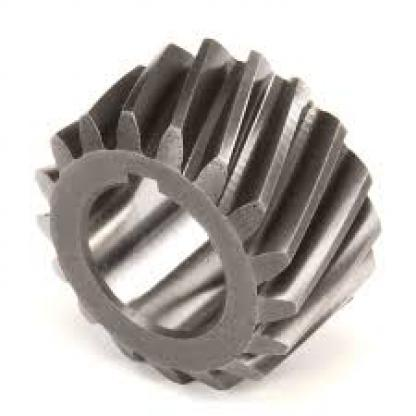FOD: (25, 25, 384, 398)
